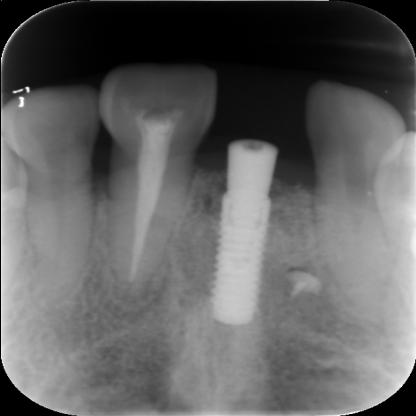ITI: (213, 186, 279, 330)
